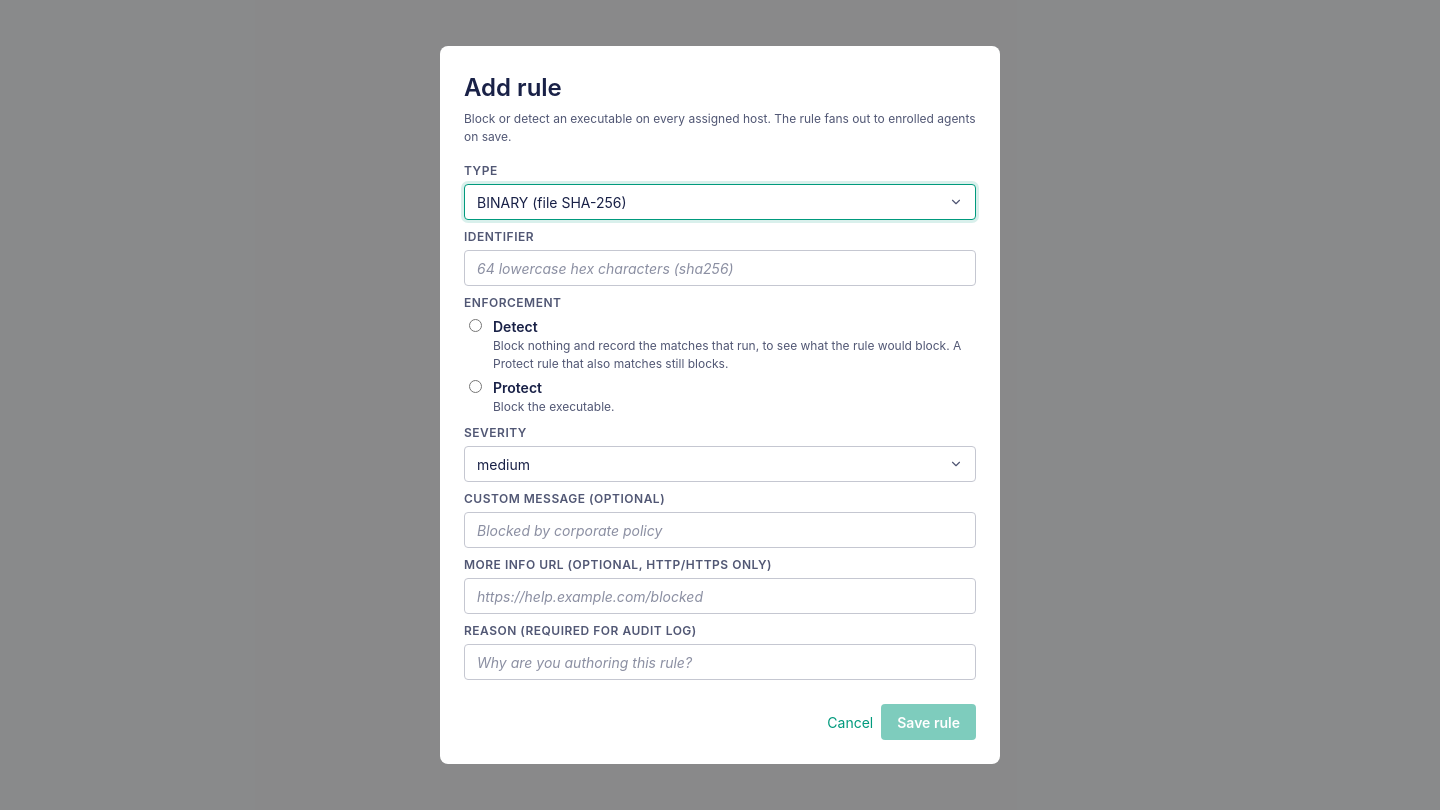
AddRuleModal › rejects a lowercase TEAMID identifier with a specific error
Step 1. Select "TEAMID (Apple Developer team)" in the dropdown labelled "Type" → (720, 202), box [464, 184, 976, 220]
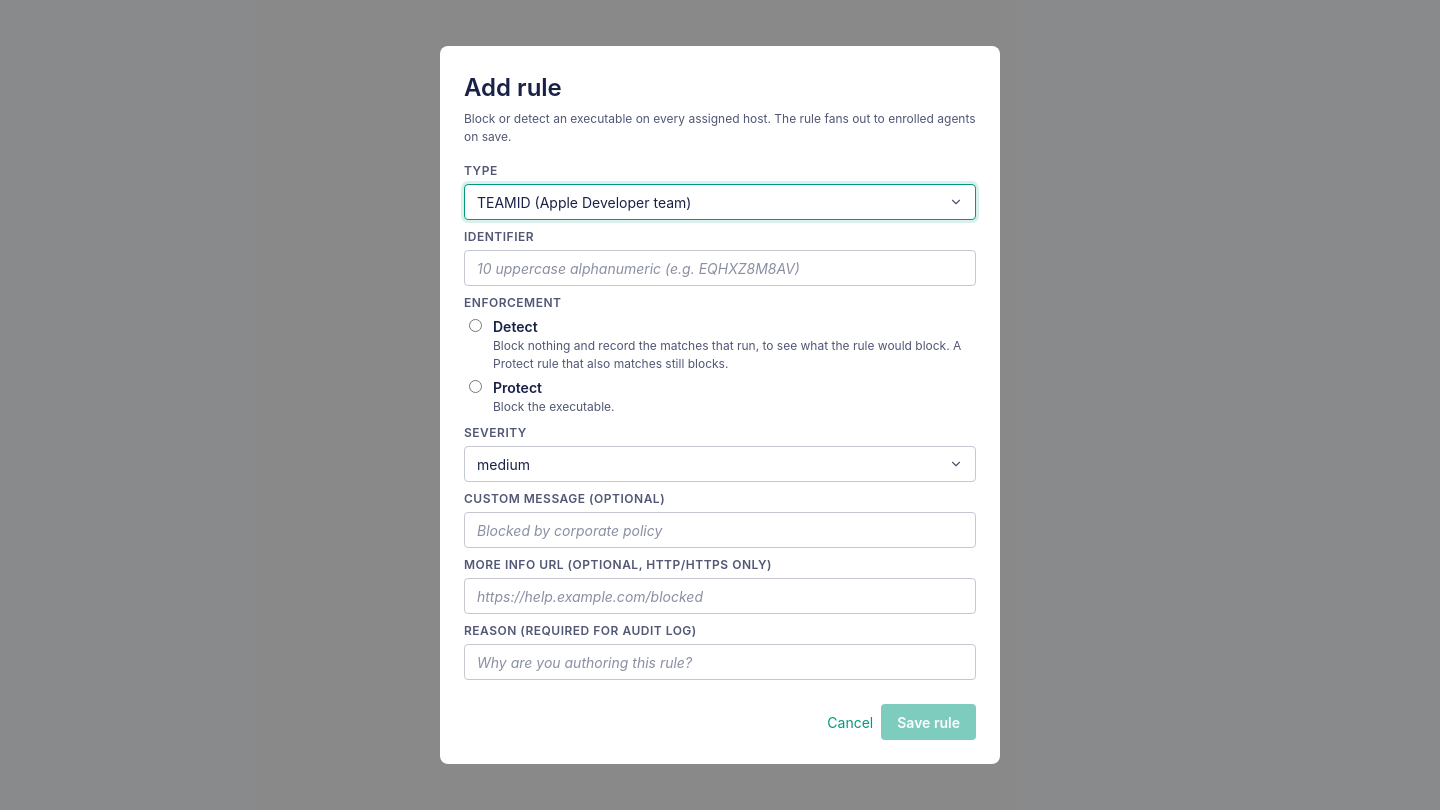
Step 2. Type "eqhxz8m8av" into the field labelled "Identifier" → (720, 268), box [464, 250, 976, 286]
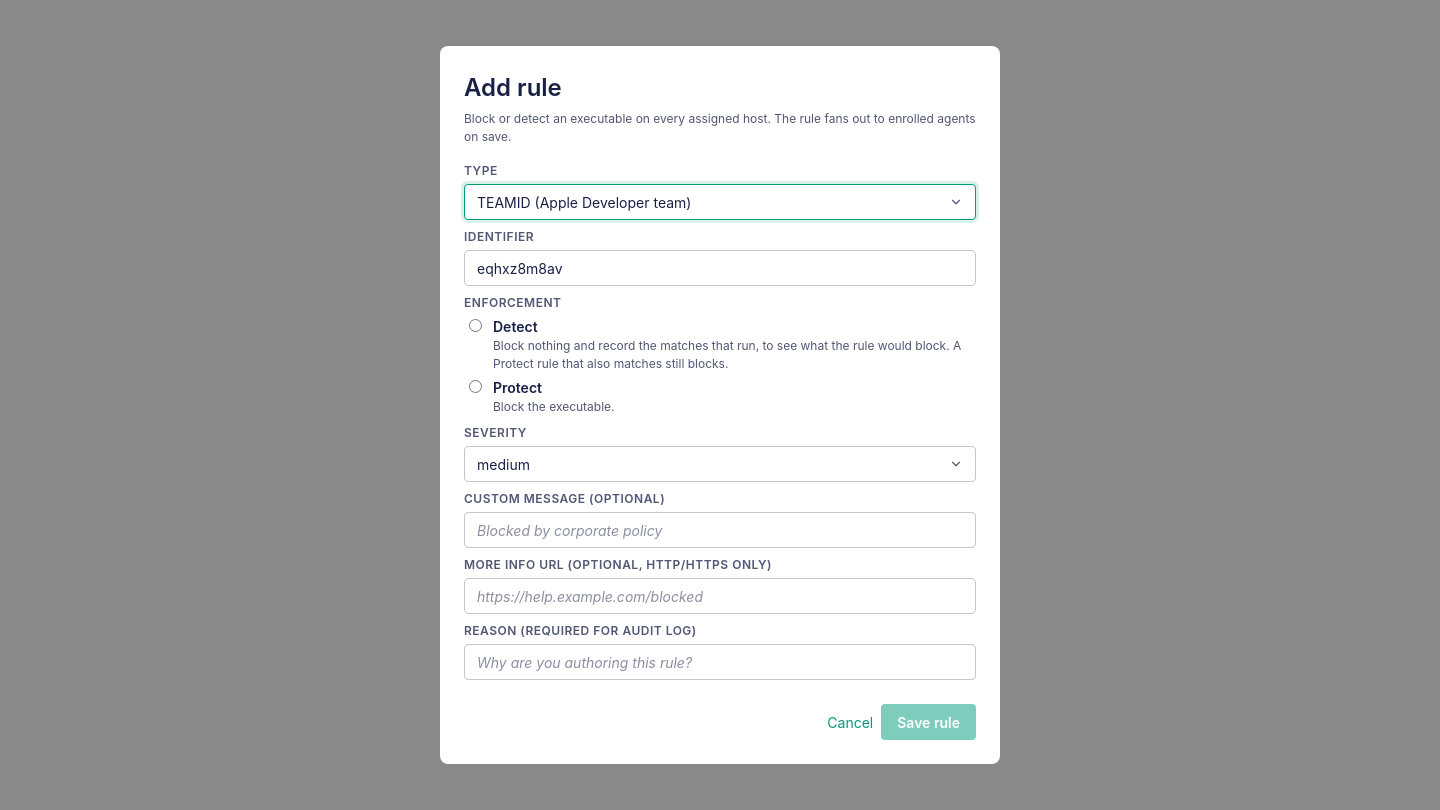
Step 3. Type "demo" into the field labelled "Reason (required for audit log)" → (720, 662), box [464, 644, 976, 680]
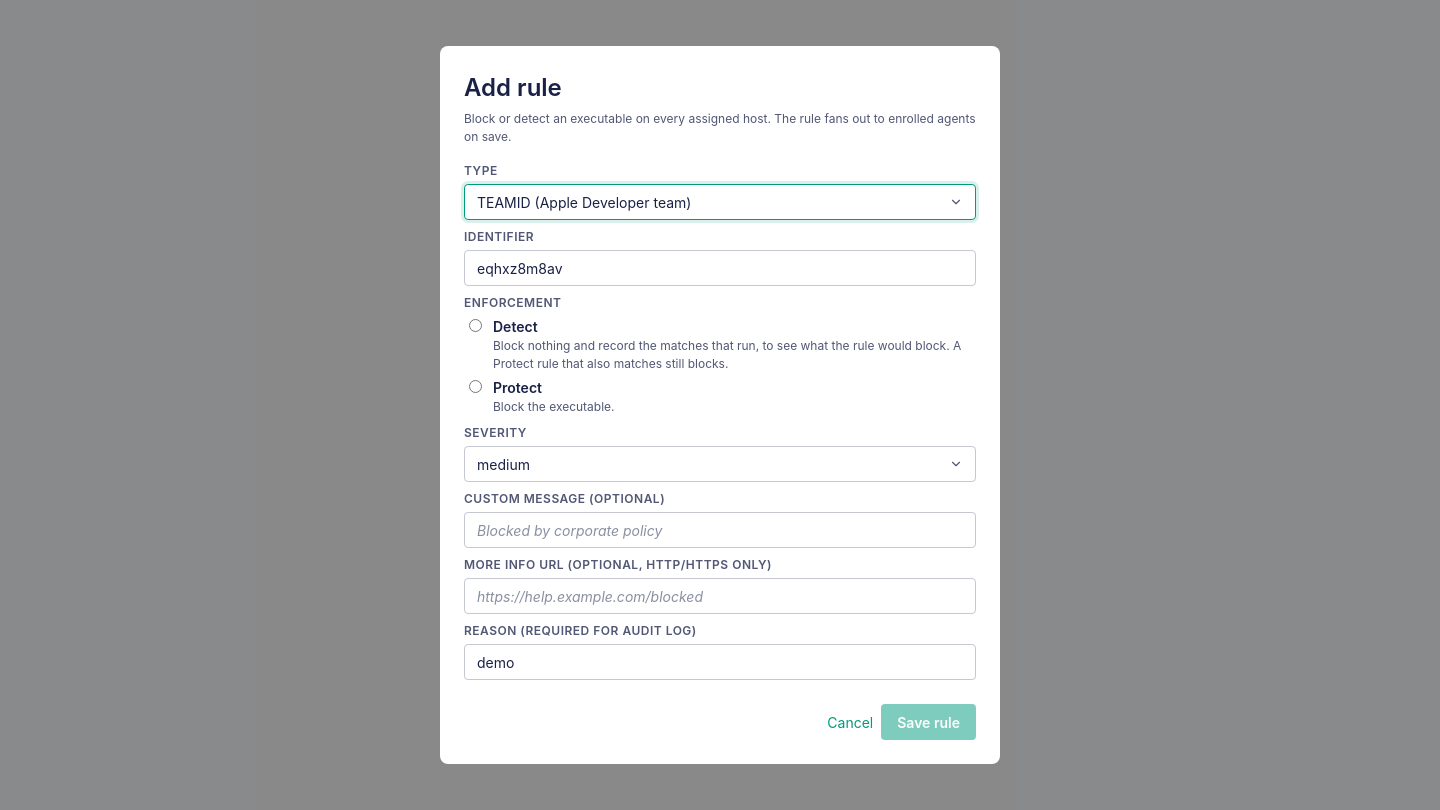
Step 4. Click the radio button labelled "Protect" → (476, 386), box [469, 380, 482, 393]
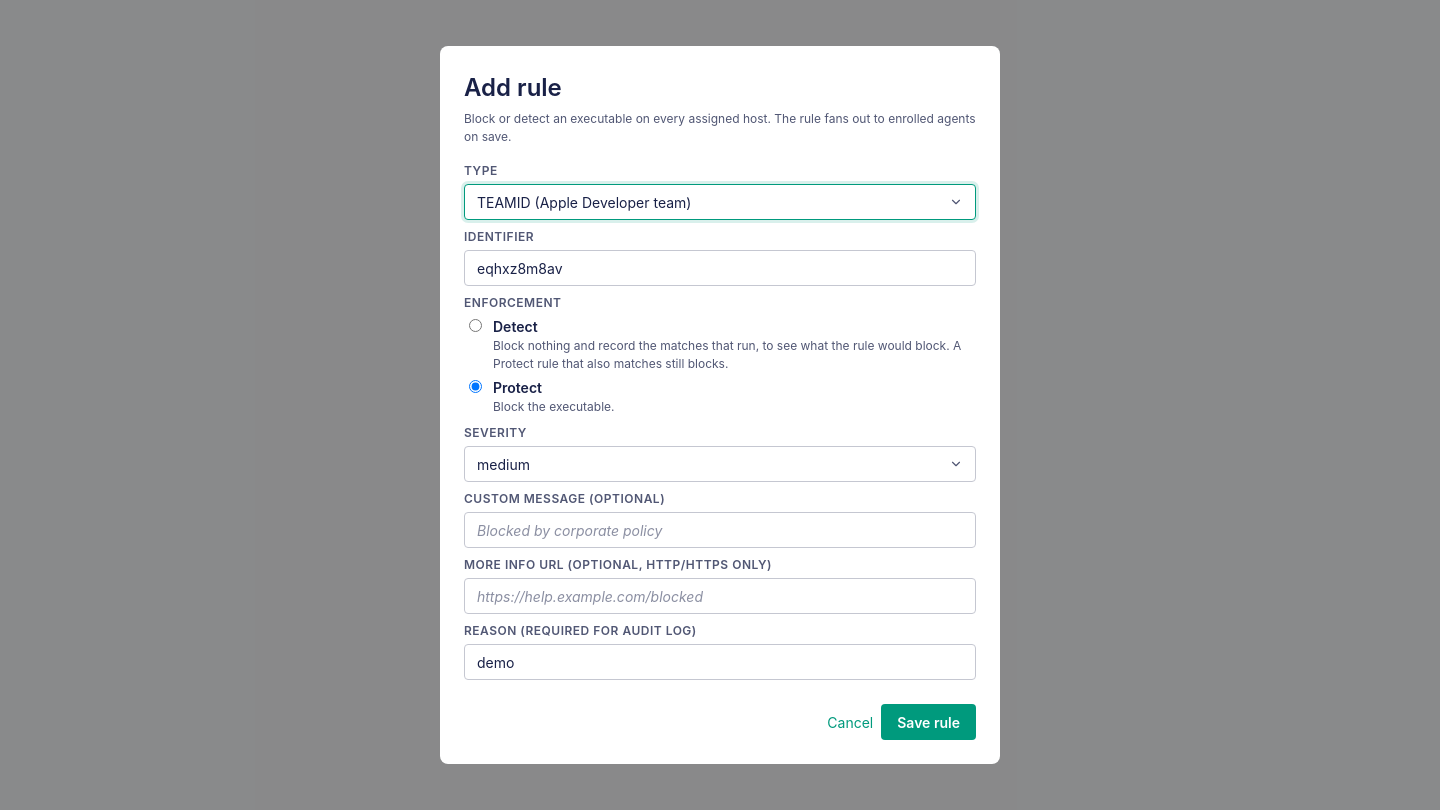
Step 5. Click the button "Save rule" → (929, 722), box [881, 704, 976, 740]
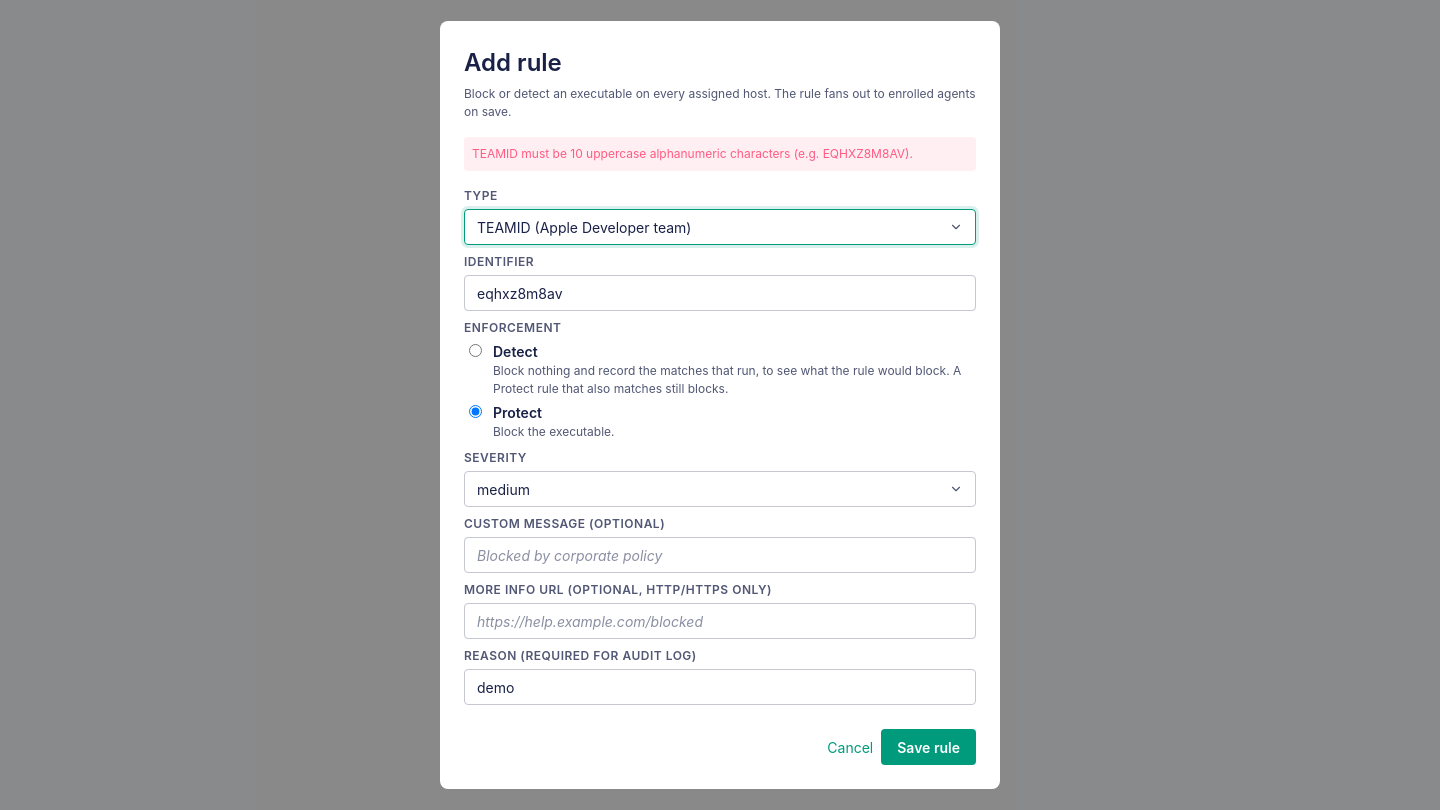
Expected: the message shows "TEAMID must be 10 uppercase", [472, 146, 913, 161]
